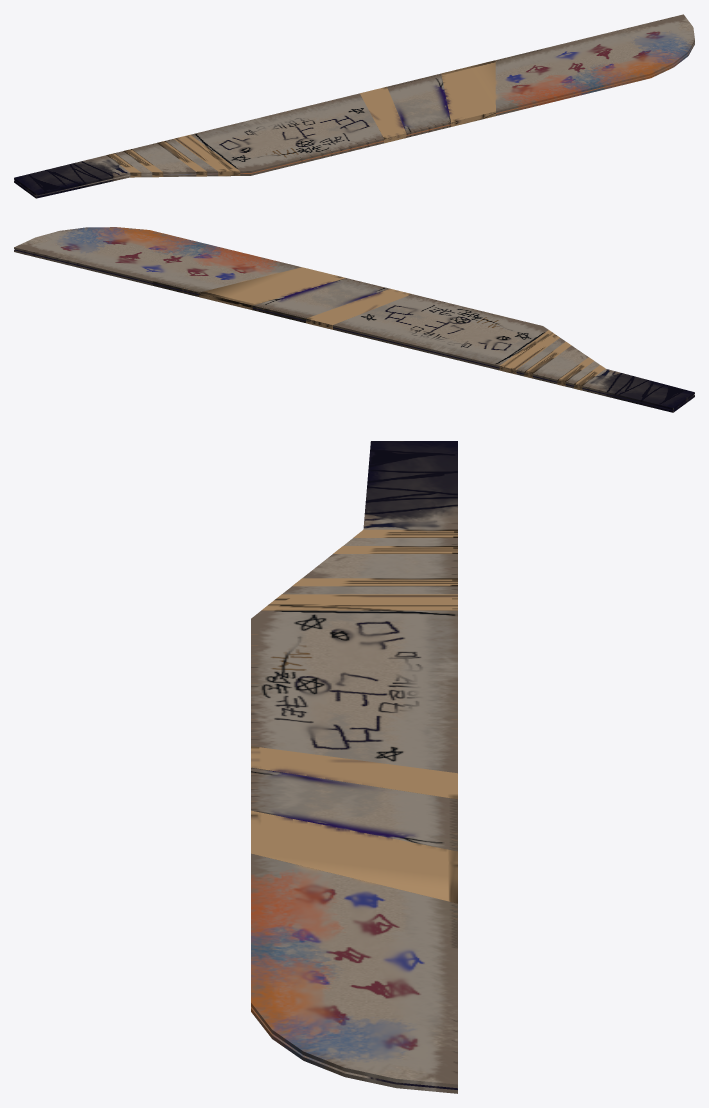
3 views of the same model, one above another, from view 1: azimuth 30°, elevation 25°; view 2: azimuth 150°, elevation 25°; view 3: azimuth 270°, elevation 25° (orthographic). The views are drawn at different scales.
Visible parts, largest first — view 1: 마검; view 2: 마검; view 3: 마검.
Boxes of the visible parts, x1,y1,x2,y2 form: 마검: [14, 14, 694, 198]; 마검: [14, 227, 694, 412]; 마검: [251, 441, 457, 1093].
Bounding box in the file's own units: 49.2 × 0.3383 × 6.69.
